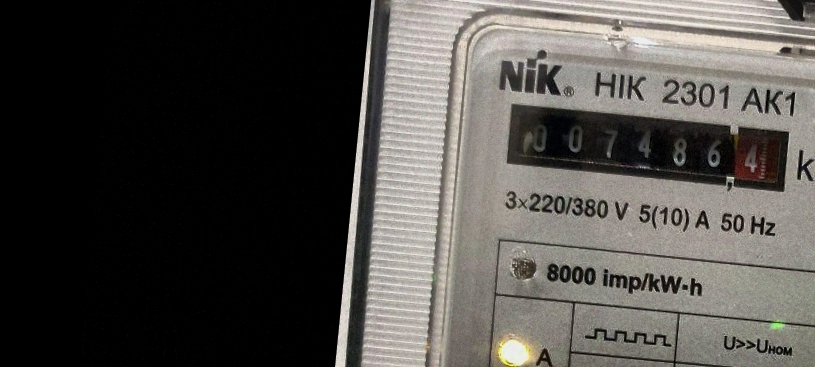0: (528, 119, 551, 155), (565, 121, 586, 156)
4: (634, 125, 655, 161), (741, 140, 761, 176)
6: (704, 137, 726, 170)
7: (597, 125, 623, 160)
8: (670, 134, 690, 171)
screen: (496, 91, 801, 204)
